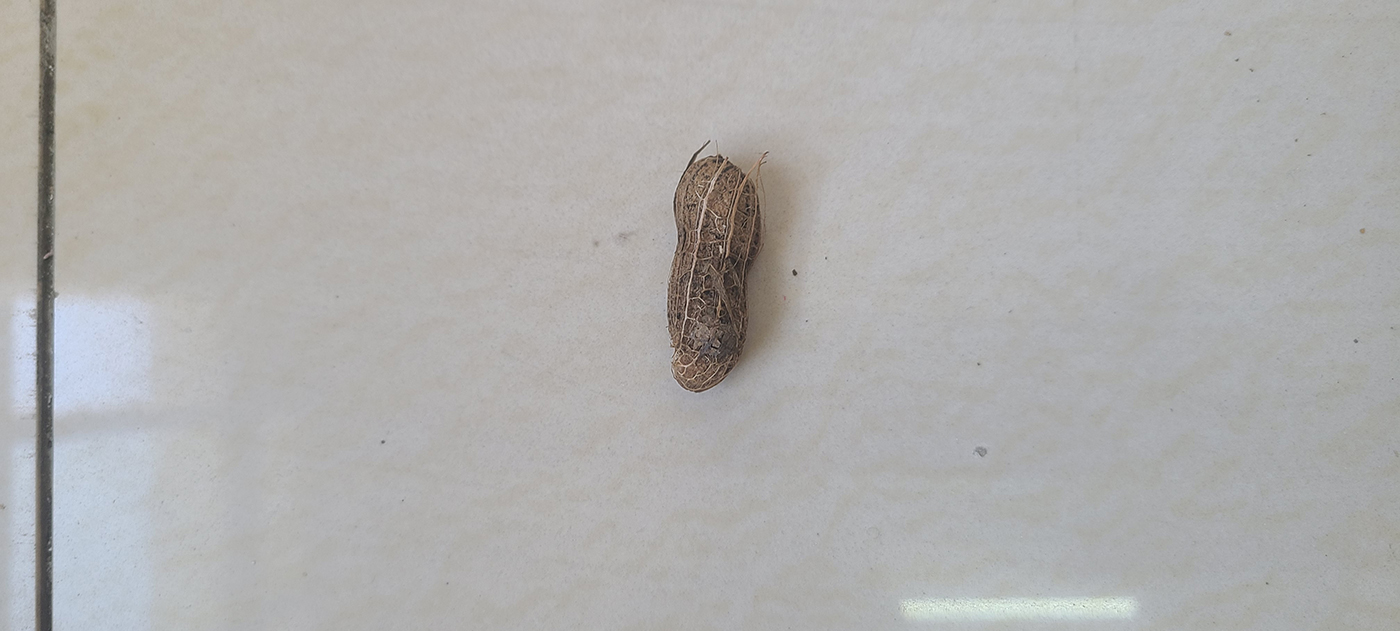l: (667, 154, 765, 392)
